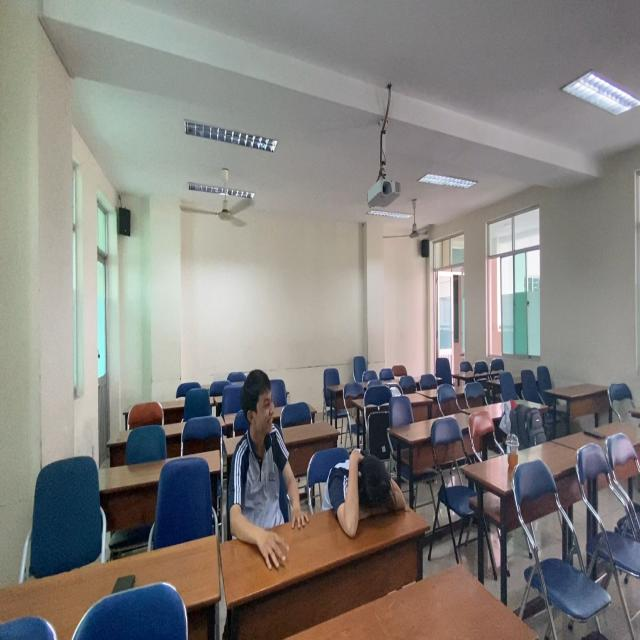sleep: (324, 434, 435, 556)
